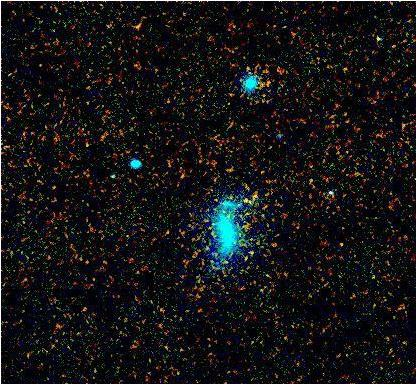star: (255, 230, 285, 260)
